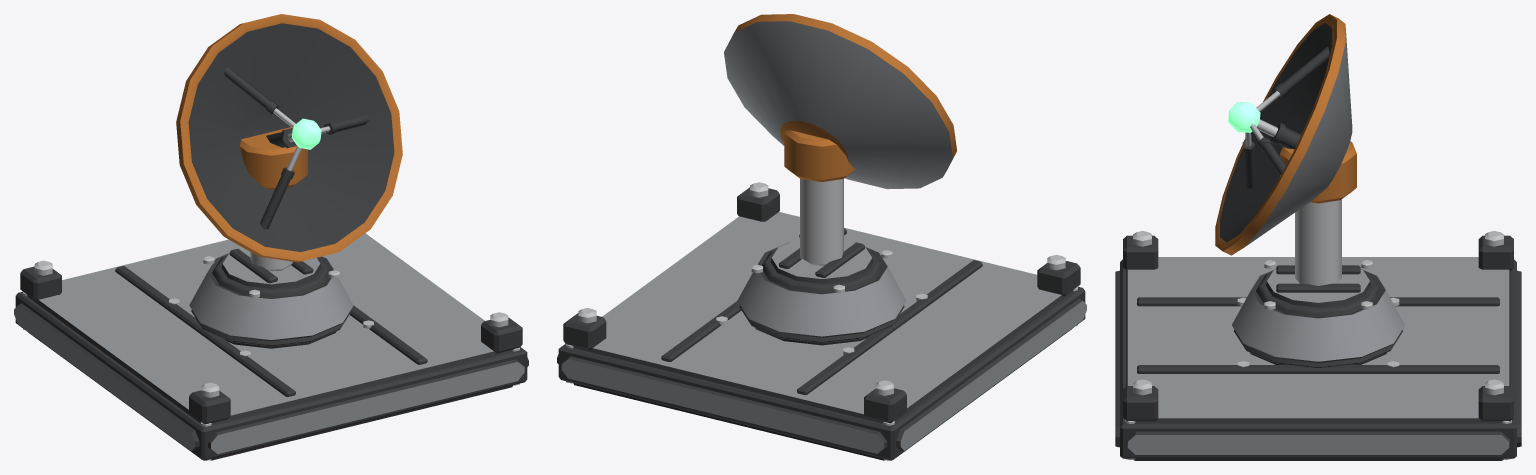
Rendered from R4X_Radar.fbx.
3 views of the same model, side by side, from view 1: azimuth 30°, elevation 25°; view 2: azimuth 150°, elevation 25°; view 3: azimuth 270°, elevation 25° (orthographic). The views are drawn at different scales.
Visible parts, largest first — view 1: R4X_Radar_Body, R4X_Radar_Dish; view 2: R4X_Radar_Body, R4X_Radar_Dish; view 3: R4X_Radar_Body, R4X_Radar_Dish.
Boxes of the visible parts, x1,y1,x2,y2 form: R4X_Radar_Body: (14, 233, 528, 460); R4X_Radar_Dish: (176, 14, 402, 262); R4X_Radar_Body: (557, 179, 1086, 460); R4X_Radar_Dish: (724, 14, 956, 189); R4X_Radar_Body: (1115, 199, 1521, 460); R4X_Radar_Dish: (1215, 14, 1356, 255).
Bounding box in the file's own units: 0.52 × 0.4955 × 0.52.
